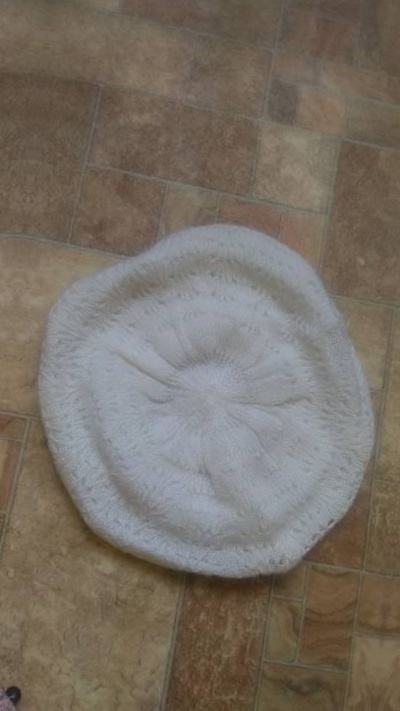Hat: (0, 165, 400, 619), (0, 119, 16, 574)
